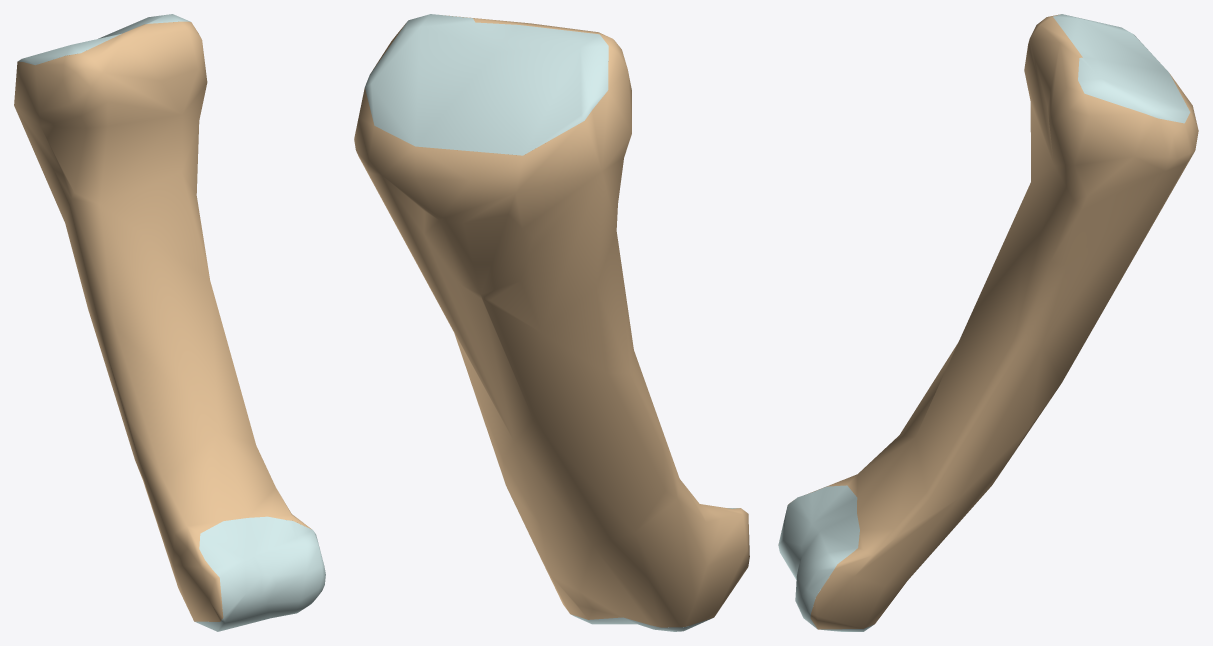
File: Phalanx_proximal_4th_finger_left.glb
The picture shows the model from 3 angles, left to right: view 1: azimuth 30°, elevation 25°; view 2: azimuth 150°, elevation 25°; view 3: azimuth 270°, elevation 25°; orthographic projection. The views are drawn at different scales.
Visible parts, largest first — view 1: Proximal_phalanx_of_4th_finger.l_Generated_Mesh_From_X3D.706; view 2: Proximal_phalanx_of_4th_finger.l_Generated_Mesh_From_X3D.706; view 3: Proximal_phalanx_of_4th_finger.l_Generated_Mesh_From_X3D.706.
Part boxes in pixels (x1,y1,x2,y2): Proximal_phalanx_of_4th_finger.l_Generated_Mesh_From_X3D.706: (14, 14, 325, 631); Proximal_phalanx_of_4th_finger.l_Generated_Mesh_From_X3D.706: (354, 14, 749, 631); Proximal_phalanx_of_4th_finger.l_Generated_Mesh_From_X3D.706: (778, 14, 1198, 631).
Bounding box in the file's own units: 0.014 × 0.0404 × 0.0273.
